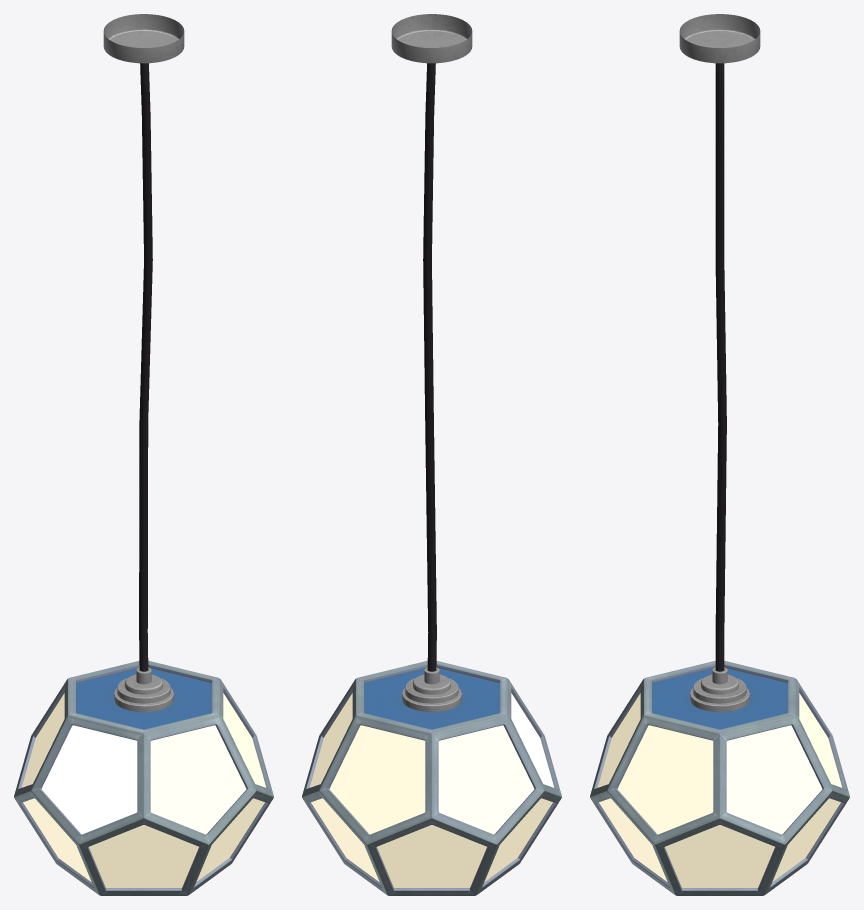
The picture shows the model from 3 angles, left to right: view 1: azimuth 30°, elevation 25°; view 2: azimuth 150°, elevation 25°; view 3: azimuth 270°, elevation 25°; orthographic projection.
Visible parts, largest first — view 1: Sm_PendantLamp08; view 2: Sm_PendantLamp08; view 3: Sm_PendantLamp08.
Boxes of the visible parts, x1,y1,x2,y2 form: Sm_PendantLamp08: [14, 14, 273, 895]; Sm_PendantLamp08: [302, 14, 561, 895]; Sm_PendantLamp08: [590, 14, 849, 895].
Bounding box in the file's own units: 0.2016 × 0.7129 × 0.2016.
Materials: 2 (2 with a texture image).
